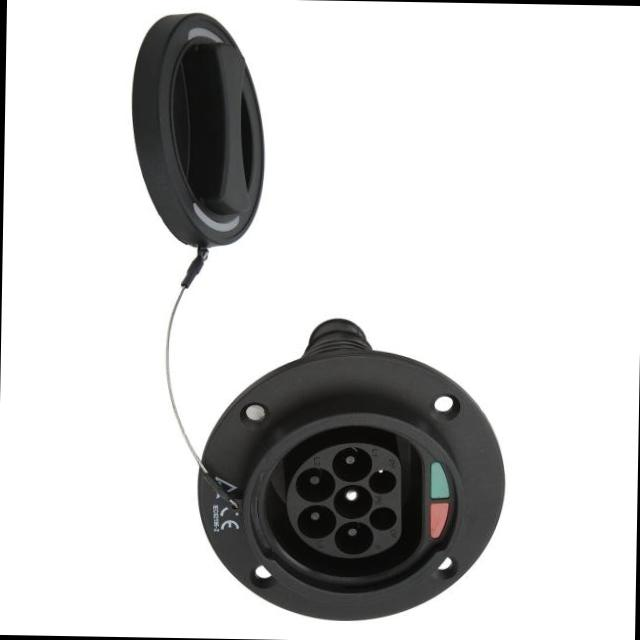inlet: (285, 443, 400, 558)
inlet-above-left: (367, 470, 395, 494)
inlet-above-right: (368, 507, 395, 530)
inlet-below-left: (294, 468, 334, 502)
inlet-below-right: (295, 504, 335, 539)
inlet-center: (332, 484, 372, 519)
inlet-center-left: (331, 447, 371, 482)
inlet-center-right: (333, 521, 372, 554)
